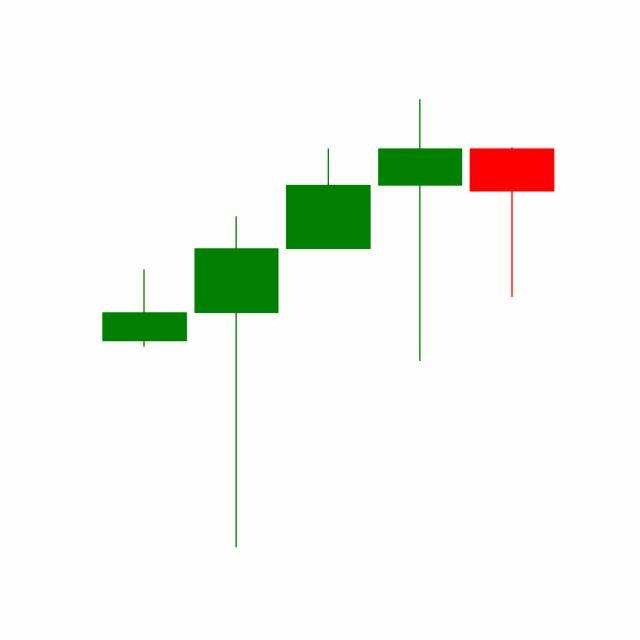Spinning Top: (374, 97, 468, 365)
